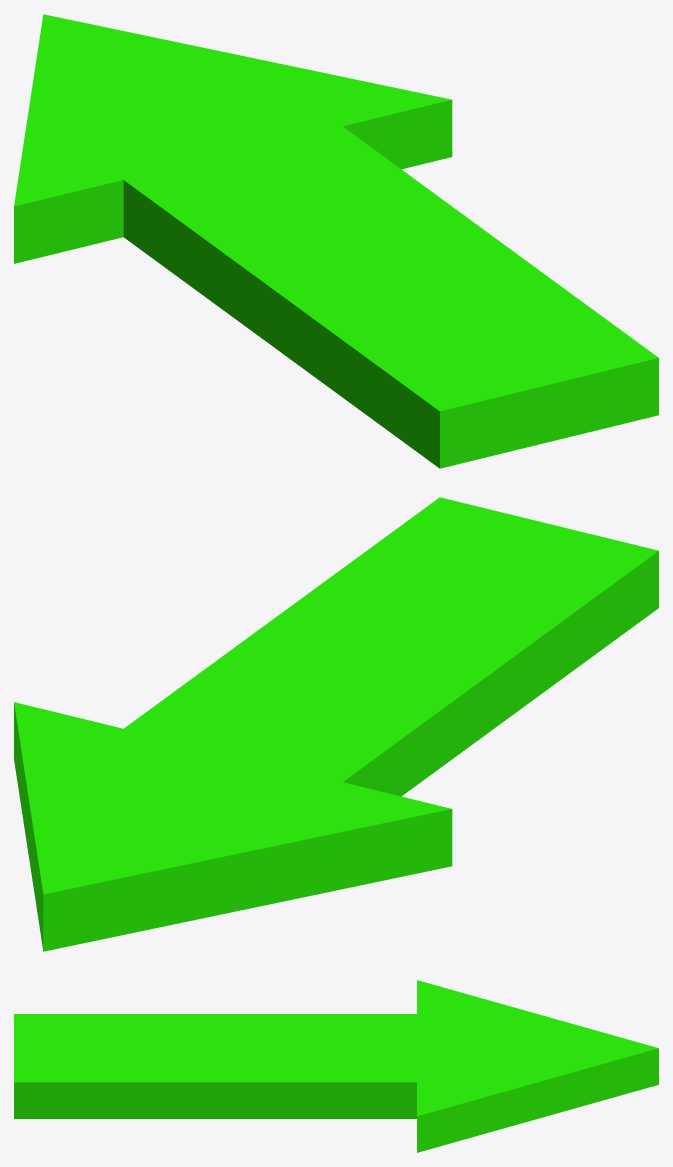
File: GreenArrow.fbx
3 renders of one model, top to bottom at view 1: azimuth 30°, elevation 25°; view 2: azimuth 150°, elevation 25°; view 3: azimuth 270°, elevation 25°, orthographic. The views are drawn at different scales.
Parts seen in each view (by area): view 1: Arrow; view 2: Arrow; view 3: Arrow.
Part boxes in pixels (x1,y1,x2,y2): Arrow: (14, 14, 658, 468); Arrow: (14, 497, 658, 951); Arrow: (14, 980, 658, 1152).
Bounding box in the file's own units: 40 × 5 × 80.
